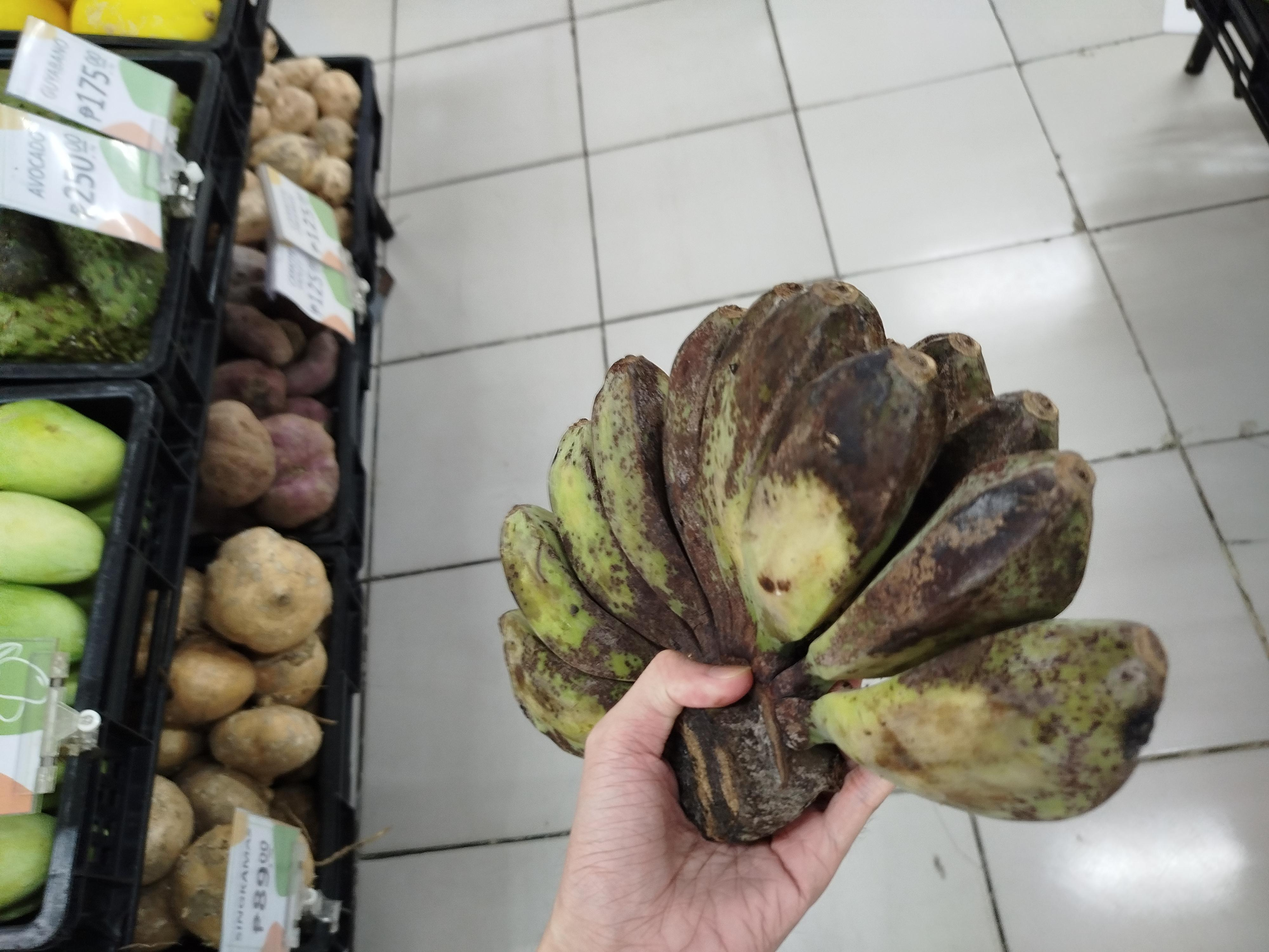underripe: (499, 280, 1167, 820)
